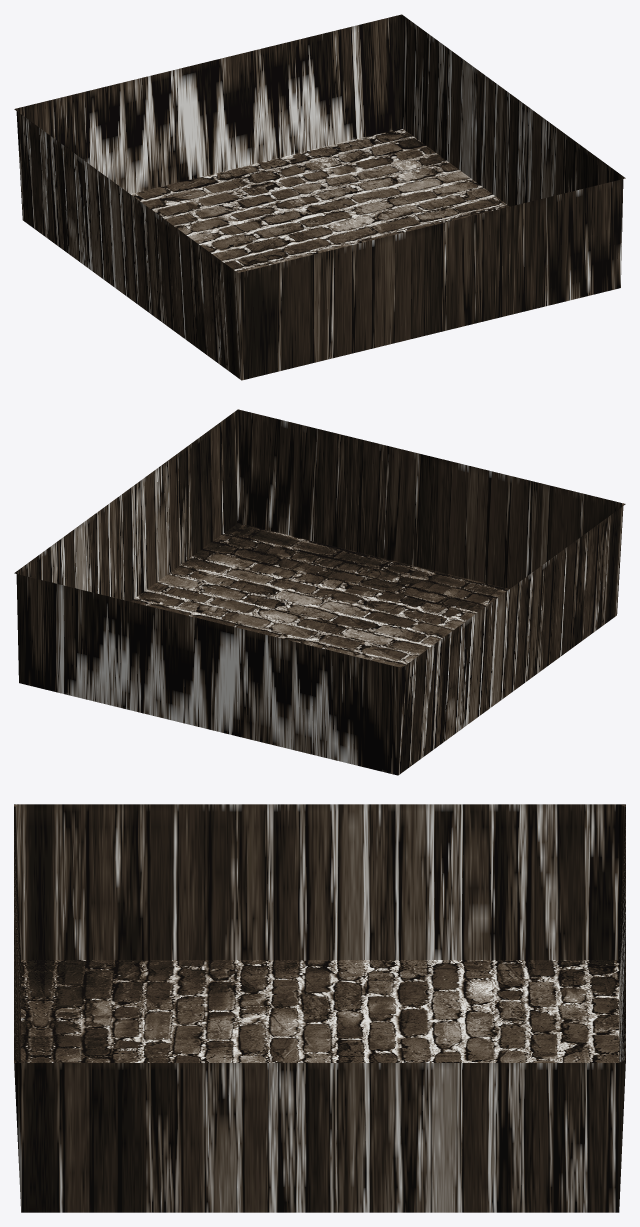
File: mundo_realista.dae
The picture shows the model from 3 angles, top to bottom: view 1: azimuth 30°, elevation 25°; view 2: azimuth 150°, elevation 25°; view 3: azimuth 270°, elevation 25°; orthographic projection. The views are drawn at different scales.
Visible parts, largest first — view 1: Plane; view 2: Plane; view 3: Plane.
Boxes of the visible parts, x1=… form: Plane: x1=14, y1=14, x2=625, y2=380; Plane: x1=14, y1=409, x2=625, y2=775; Plane: x1=14, y1=804, x2=625, y2=1212.
Bounding box in the file's own units: 100 × 100 × 27.35.
Materials: 1 (1 with a texture image).
